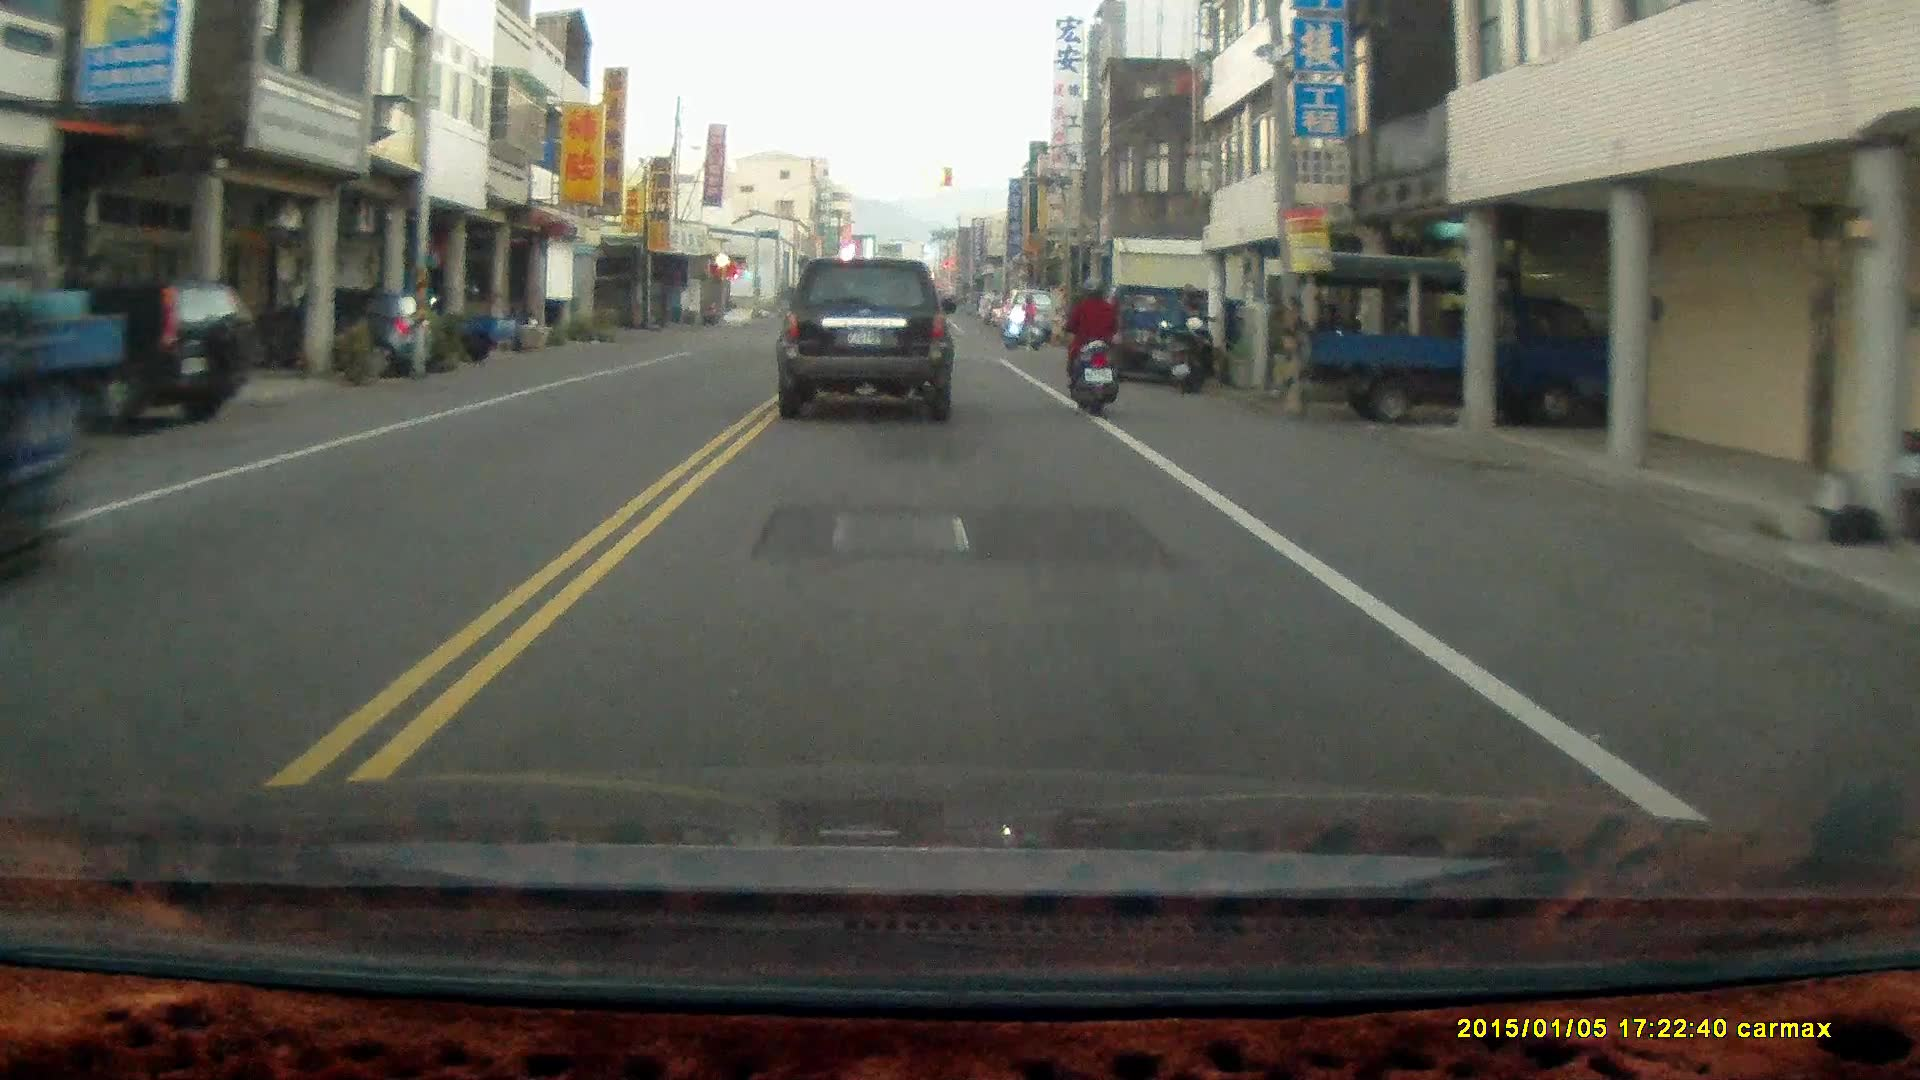rider: (0, 245, 91, 583), (1066, 273, 1121, 420), (1000, 294, 1041, 348)
vehicle: (1300, 254, 1626, 427), (14, 274, 256, 427), (775, 256, 957, 427), (249, 285, 433, 378), (1089, 277, 1208, 381)
